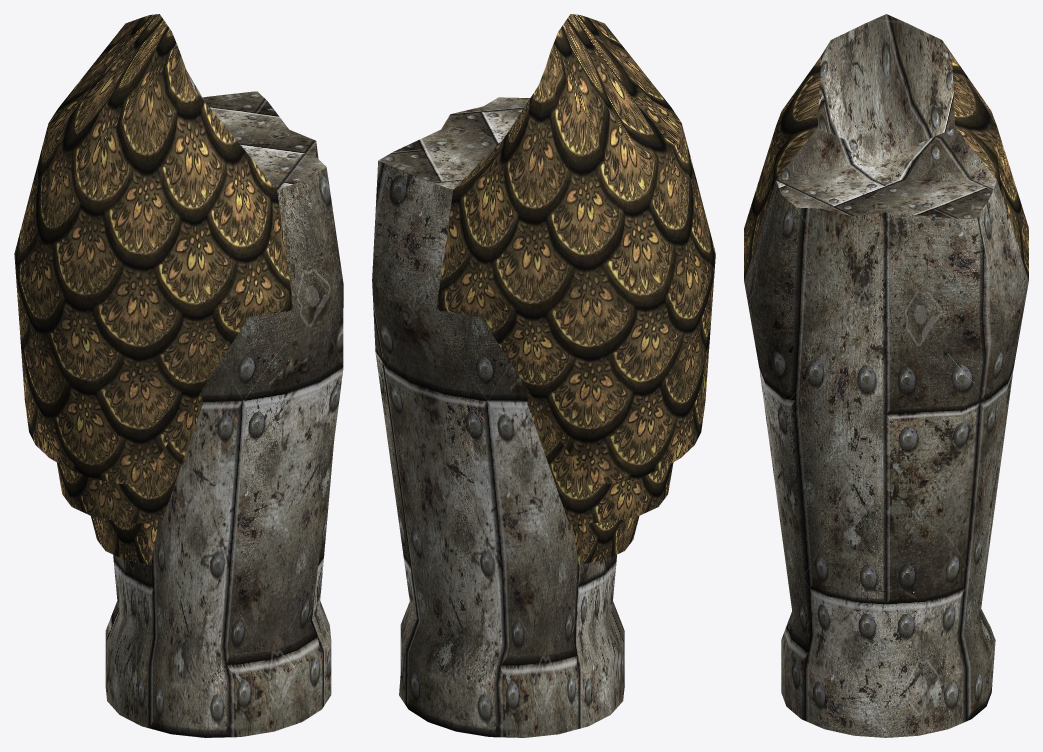
The model's file is RightShoulderArmorModel.fbx.
3 renders of one model, left to right at view 1: azimuth 30°, elevation 25°; view 2: azimuth 150°, elevation 25°; view 3: azimuth 270°, elevation 25°, orthographic. The views are drawn at different scales.
Visible parts, largest first — view 1: pCylinder3; view 2: pCylinder3; view 3: pCylinder3.
Part boxes in pixels (bbox=[...]): pCylinder3: bbox=[14, 14, 343, 737]; pCylinder3: bbox=[372, 14, 715, 737]; pCylinder3: bbox=[744, 14, 1028, 737].
Size of the model in its own units: 35.55 by 80.52 by 31.89.
